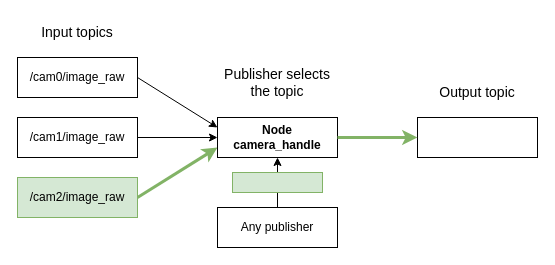
Some shapes in this 555 by 265 pixel diagram are drawn without their labels. Here are the shapes that lost their labels. From the top down, the centre of each, then its label:
(x=477, y=137): /camera/image_raw
(x=277, y=182): "/cam2/image_raw"
